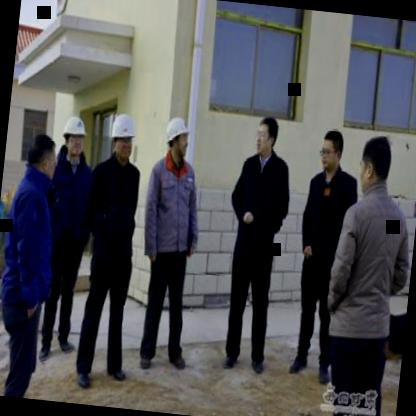helmet: (106, 108, 140, 164), (162, 114, 192, 162), (58, 112, 86, 161)
